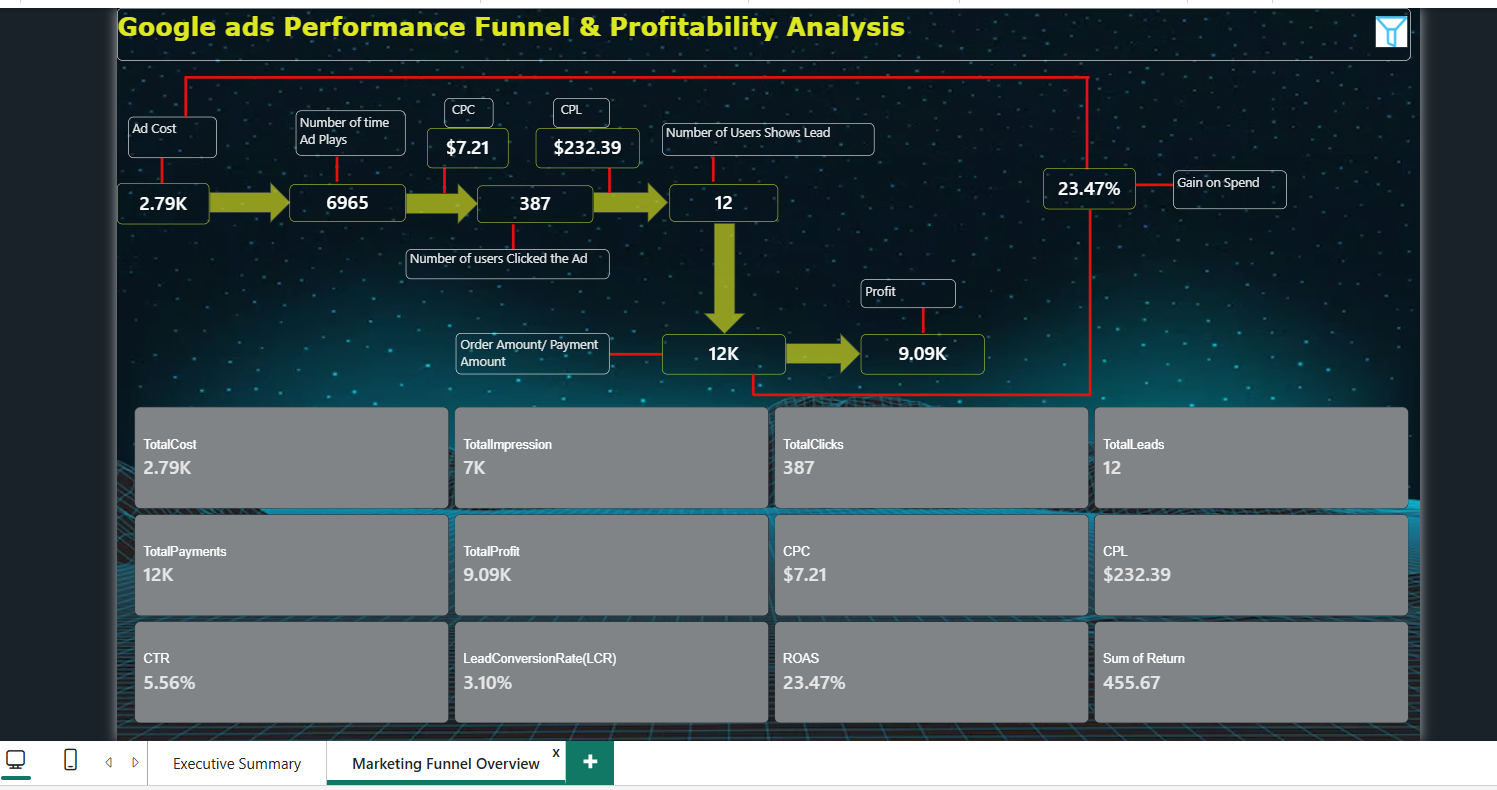

This screenshot's page, from the dashboard's own definition file:
{"tool":"powerbi","page":{"name":"Marketing Funnel Overview","canvas":[1920,1080],"ordinal":1},"visuals":[{"type":"textbox","box":[0,0,1904.9,77.3],"z":0},{"type":"cardVisual","fields":{"Data":["1MeasureTable.TotalCost","1MeasureTable.TotalImpression","1MeasureTable.TotalClicks","1MeasureTable.TotalLeads","1MeasureTable.TotalPayments","1MeasureTable.TotalProfit","1MeasureTable.CPC","1MeasureTable.CPL","1MeasureTable.CTR","1MeasureTable.LeadConversionRate(LCR)","1MeasureTable.ROAS","Sum(Google Ads Data.Return)"]},"box":[25.8,587.1,1879.2,467.5],"z":1},{"type":"shape","box":[136.2,255.8,119.6,60.7],"z":2},{"type":"textbox","box":[16.6,266.9,130.7,38.7],"z":3},{"type":"shape","box":[425.2,257.7,106.7,60.7],"z":5},{"type":"card","fields":{"Values":["1MeasureTable.TotalClicks"]},"box":[530.1,261.4,171.2,55.2],"z":6},{"type":"shape","box":[701.2,255.8,110.4,60.7],"z":7},{"type":"card","fields":{"Values":["1MeasureTable.TotalLeads"]},"box":[813.5,259.5,160.1,55.2],"z":8},{"type":"shape","box":[863.2,316.6,62.6,163.8],"z":9},{"type":"card","fields":{"Values":["1MeasureTable.TotalPayments"]},"box":[802.5,480.4,182.2,58.9],"z":10},{"type":"shape","box":[984.7,478.5,110.4,60.7],"z":11},{"type":"card","fields":{"Values":["1MeasureTable.TotalProfit"]},"box":[1095.1,480.4,182.2,58.9],"z":12},{"type":"card","fields":{"Values":["1MeasureTable.TotalImpression"]},"box":[254,259.5,171.2,55.2],"z":13},{"type":"shape","box":[307.4,219,33.1,36.8],"z":14},{"type":"shape","box":[566.9,318.4,33.1,36.8],"z":15},{"type":"shape","box":[861.4,219,33.1,36.8],"z":16},{"type":"shape","box":[725.2,500.6,77.3,18.4],"z":17},{"type":"shape","box":[1170.6,441.7,33.1,36.8],"z":18},{"type":"textbox","box":[263.2,150.9,162,66.3],"z":19},{"type":"textbox","box":[425.2,355.2,300,44.2],"z":20},{"type":"textbox","box":[802.5,169.3,312.9,47.9],"z":21},{"type":"textbox","box":[498.8,478.5,226.4,60.7],"z":22},{"type":"textbox","box":[1095.1,399.4,139.9,42.3],"z":23},{"type":"card","fields":{"Values":["1MeasureTable.TotalCost"]},"box":[0,257.7,136.2,60.7],"z":24},{"type":"shape","box":[49.7,220.9,33.1,36.8],"z":25},{"type":"textbox","box":[16.6,160.1,130.7,60.7],"z":26},{"type":"shape","box":[82.8,103.1,36.8,57.1],"z":27},{"type":"shape","box":[936.8,563.2,496.9,12.9],"z":28},{"type":"shape","box":[1422.7,103.1,11,134.4],"z":29},{"type":"card","fields":{"Values":["1MeasureTable.ROAS"]},"box":[1363.8,235.6,136.2,60.7],"z":30},{"type":"shape","box":[1422.7,296.3,20.2,274.2],"z":31},{"type":"shape","box":[99.4,95.7,1332.5,12.9],"z":32},{"type":"shape","box":[920.3,539.3,33.1,31.3],"z":33},{"type":"shape","box":[465.6,235.6,33.1,36.8],"z":34},{"type":"card","fields":{"Values":["1MeasureTable.CPC"]},"box":[456.4,176.7,119.6,58.9],"z":35},{"type":"shape","box":[708.6,235.6,33.1,36.8],"z":36},{"type":"card","fields":{"Values":["1MeasureTable.CPL"]},"box":[616.6,176.7,152.8,58.9],"z":37},{"type":"textbox","box":[482.2,132.5,71.8,44.2],"z":38},{"type":"textbox","box":[642.3,132.5,82.8,44.2],"z":39},{"type":"shape","box":[1500,254,55.2,12.9],"z":40},{"type":"textbox","box":[1555.2,239.3,167.5,57.1],"z":41},{"type":"image","box":[1853.4,0,46,69.9],"z":42}]}

Visuals, with their boxes on the page's 1920x1080 design canvas (x1, y1, x2, y2). These are canvas units, not pixel positions in the 1497x790 screenshot, which may show the page scaled, cropped or inside an application window:
textbox: left=0, top=0, right=1905, bottom=77
cardVisual - 1MeasureTable.TotalCost x 1MeasureTable.TotalImpression: left=26, top=587, right=1905, bottom=1055
shape: left=136, top=256, right=256, bottom=316
textbox: left=17, top=267, right=147, bottom=306
shape: left=425, top=258, right=532, bottom=318
card - 1MeasureTable.TotalClicks: left=530, top=261, right=701, bottom=317
shape: left=701, top=256, right=812, bottom=316
card - 1MeasureTable.TotalLeads: left=814, top=260, right=974, bottom=315
shape: left=863, top=317, right=926, bottom=480
card - 1MeasureTable.TotalPayments: left=802, top=480, right=985, bottom=539
shape: left=985, top=478, right=1095, bottom=539
card - 1MeasureTable.TotalProfit: left=1095, top=480, right=1277, bottom=539
card - 1MeasureTable.TotalImpression: left=254, top=260, right=425, bottom=315
shape: left=307, top=219, right=340, bottom=256
shape: left=567, top=318, right=600, bottom=355
shape: left=861, top=219, right=894, bottom=256
shape: left=725, top=501, right=802, bottom=519
shape: left=1171, top=442, right=1204, bottom=478
textbox: left=263, top=151, right=425, bottom=217
textbox: left=425, top=355, right=725, bottom=399
textbox: left=802, top=169, right=1115, bottom=217
textbox: left=499, top=478, right=725, bottom=539
textbox: left=1095, top=399, right=1235, bottom=442
card - 1MeasureTable.TotalCost: left=0, top=258, right=136, bottom=318
shape: left=50, top=221, right=83, bottom=258
textbox: left=17, top=160, right=147, bottom=221
shape: left=83, top=103, right=120, bottom=160
shape: left=937, top=563, right=1434, bottom=576
shape: left=1423, top=103, right=1434, bottom=238
card - 1MeasureTable.ROAS: left=1364, top=236, right=1500, bottom=296
shape: left=1423, top=296, right=1443, bottom=570
shape: left=99, top=96, right=1432, bottom=109
shape: left=920, top=539, right=953, bottom=571
shape: left=466, top=236, right=499, bottom=272
card - 1MeasureTable.CPC: left=456, top=177, right=576, bottom=236
shape: left=709, top=236, right=742, bottom=272
card - 1MeasureTable.CPL: left=617, top=177, right=769, bottom=236
textbox: left=482, top=132, right=554, bottom=177
textbox: left=642, top=132, right=725, bottom=177
shape: left=1500, top=254, right=1555, bottom=267
textbox: left=1555, top=239, right=1723, bottom=296
image: left=1853, top=0, right=1899, bottom=70
